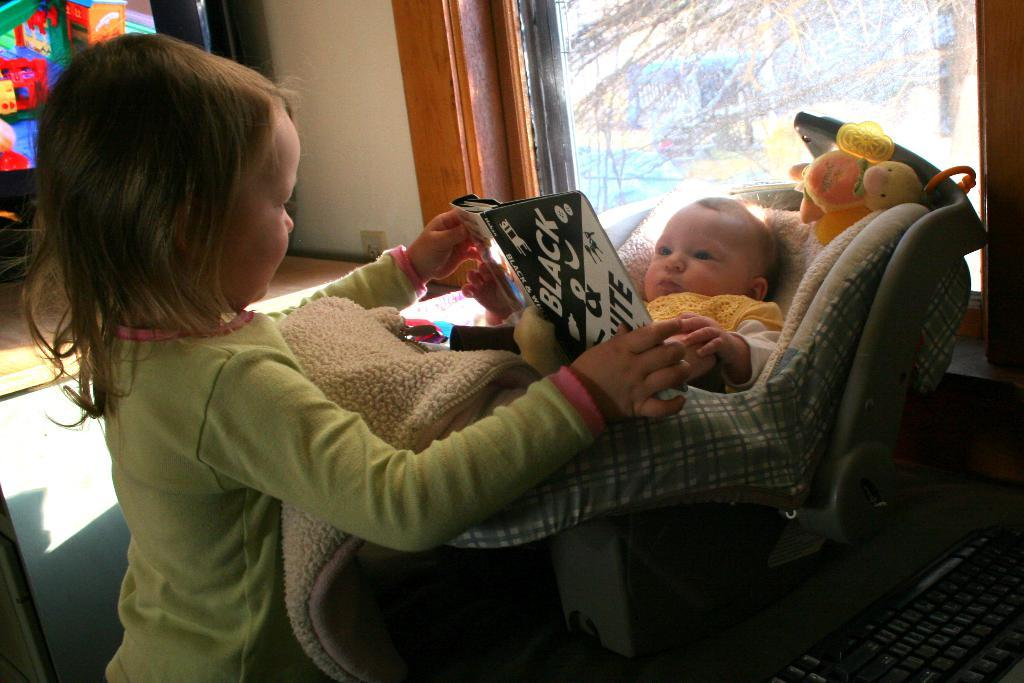Computer-keyboard: (755, 516, 1023, 682)
